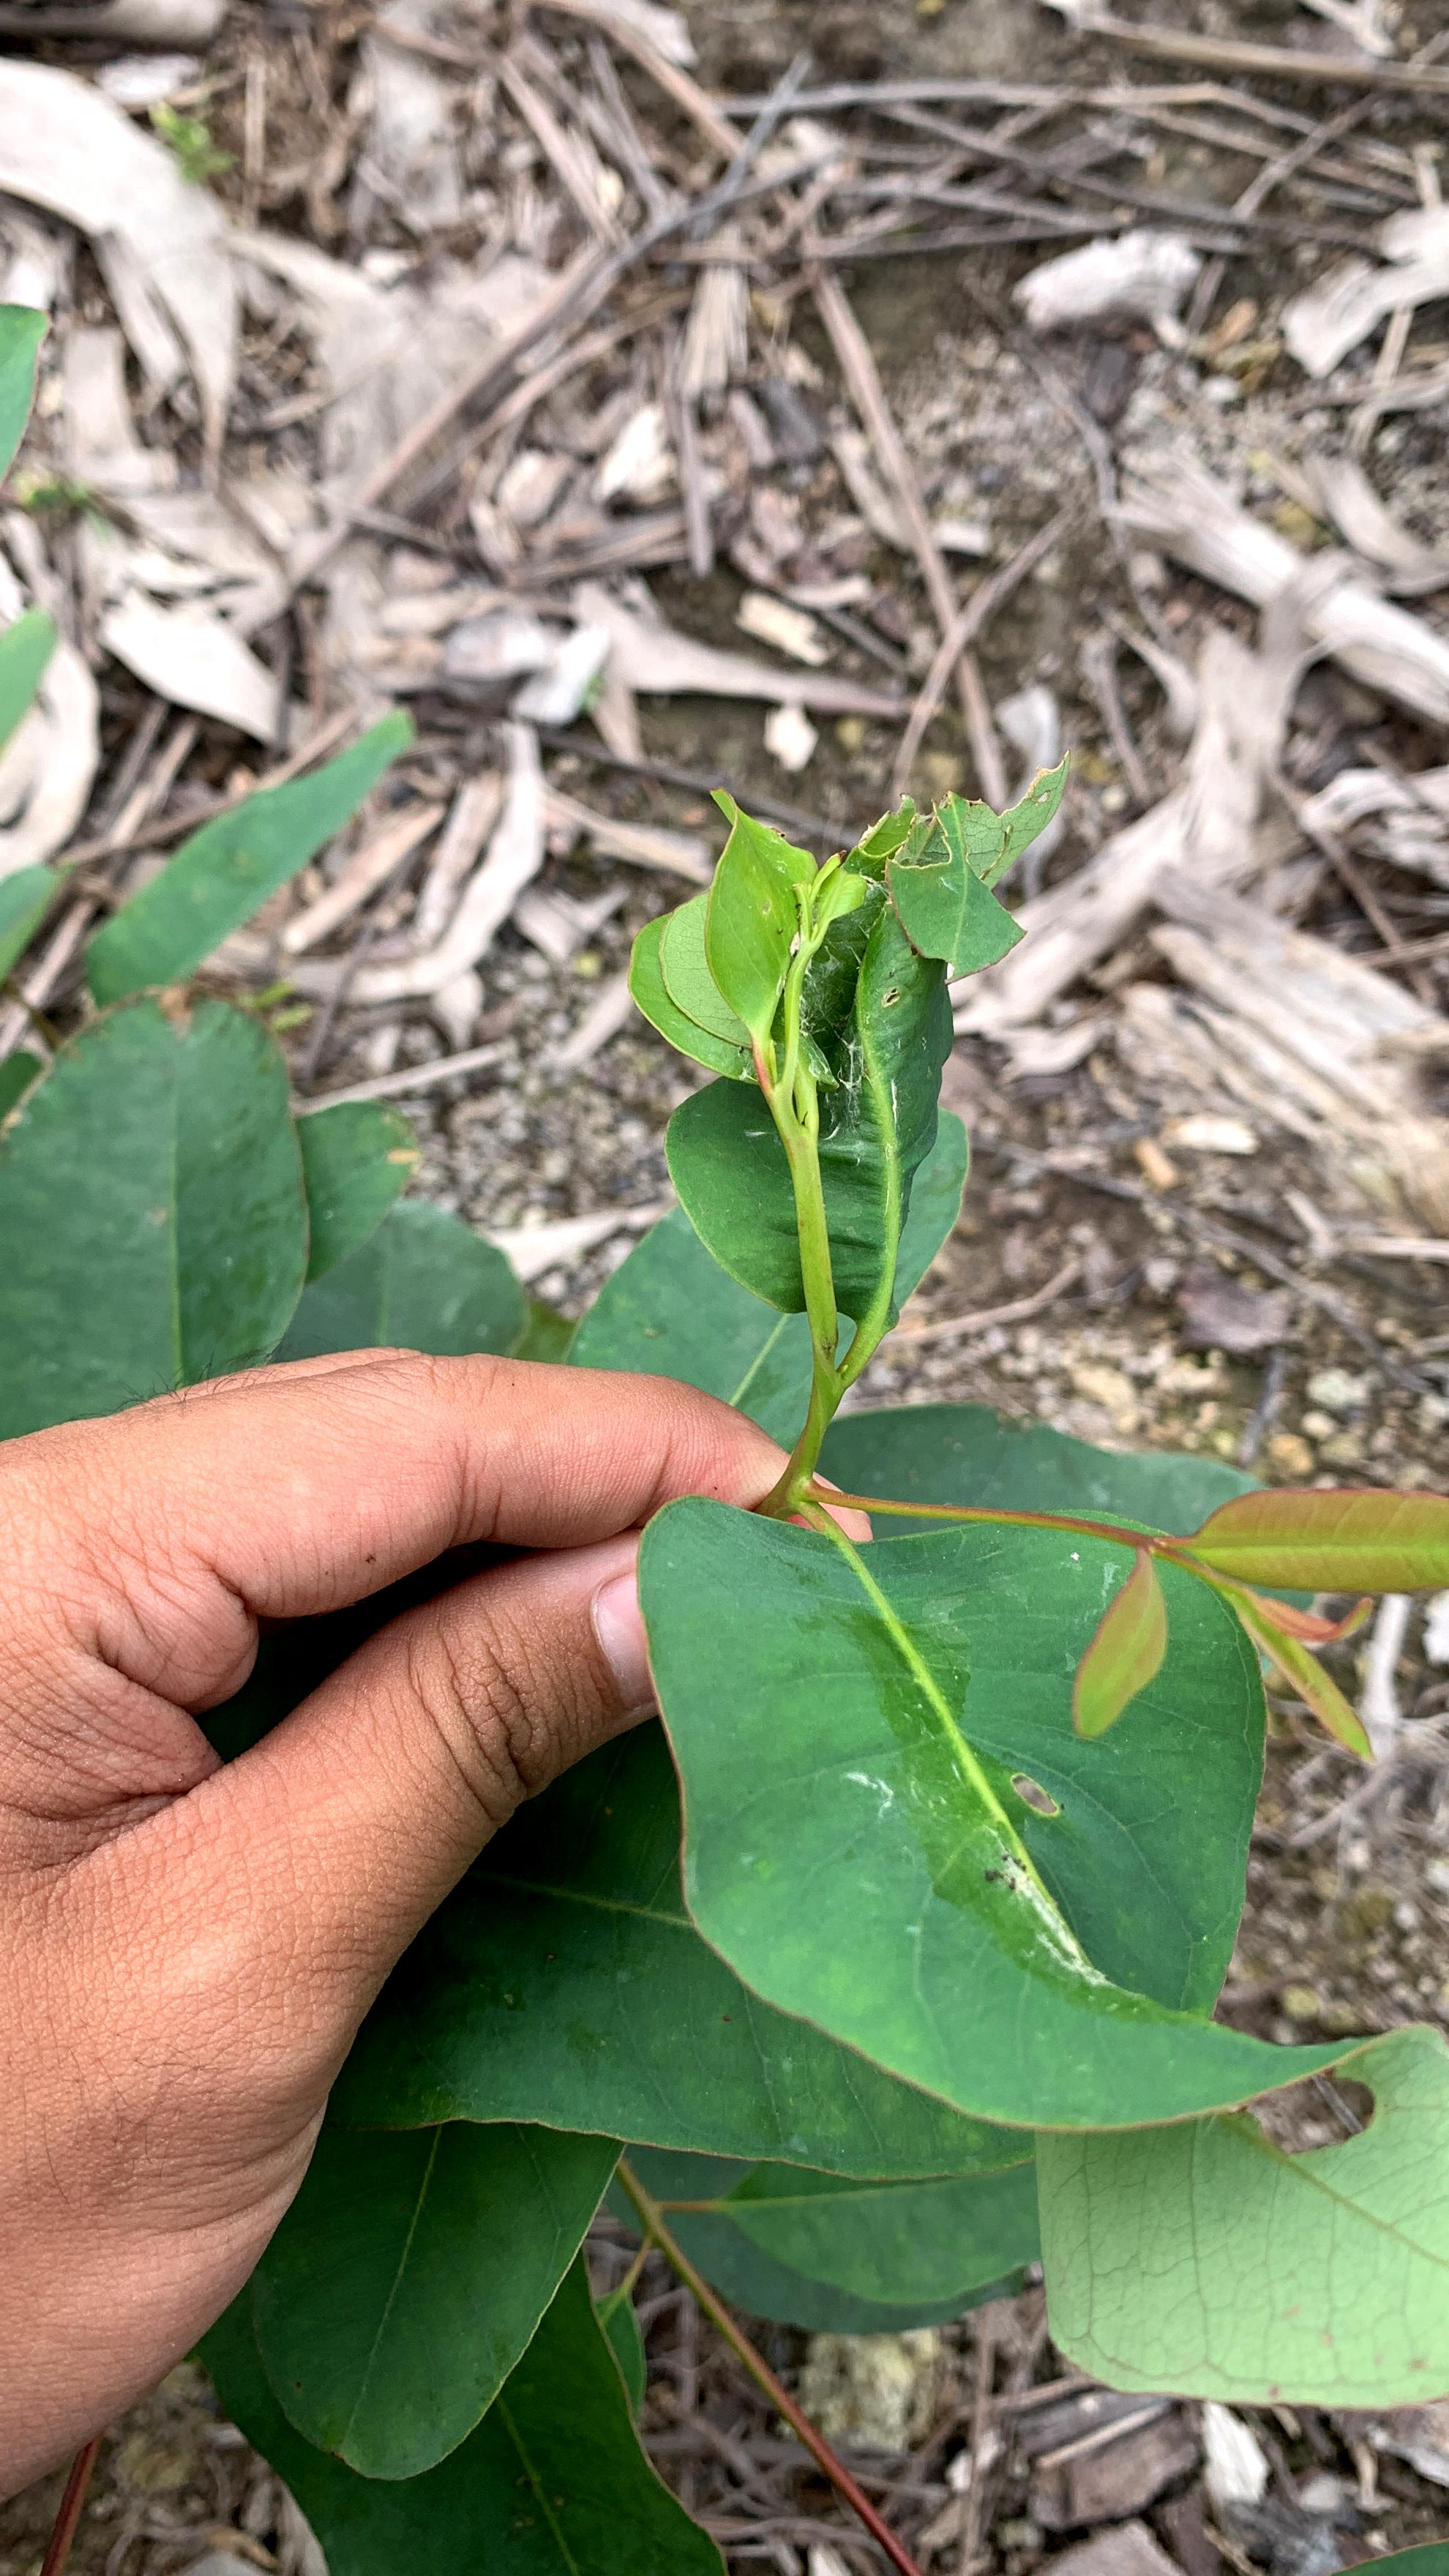Leaf Roller - Leaf: (729, 801, 1019, 1191)
